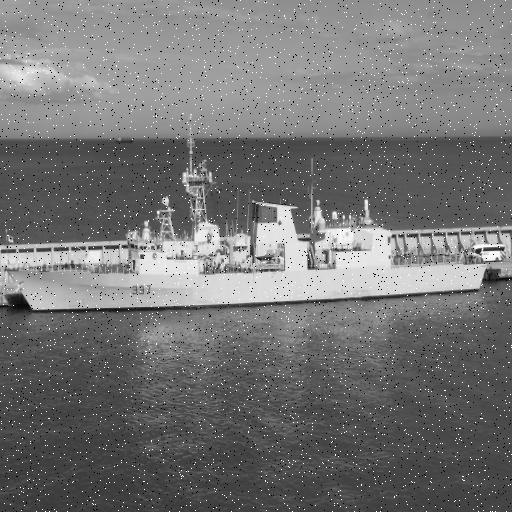Fragata: (2, 108, 491, 318)
